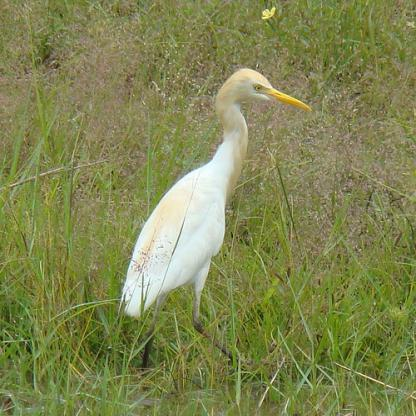bird: (116, 67, 314, 374)
